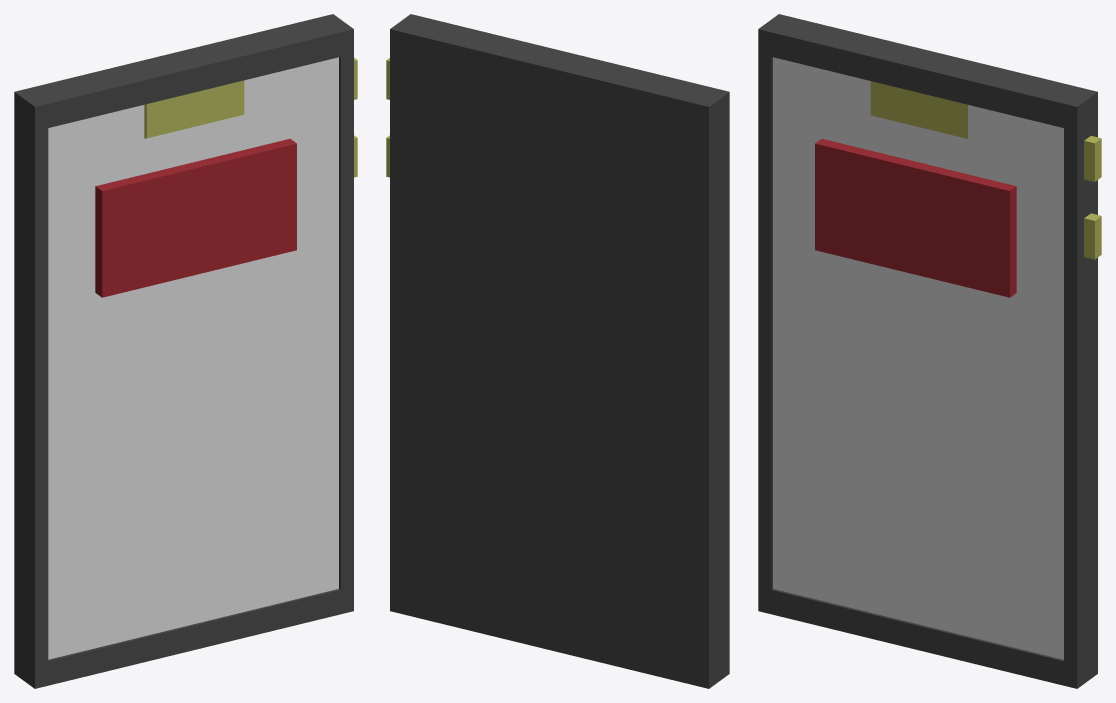
File: PhoneProjectile.fbx
The picture shows the model from 3 angles, left to right: view 1: azimuth 30°, elevation 25°; view 2: azimuth 150°, elevation 25°; view 3: azimuth 330°, elevation 25°; orthographic projection.
Parts seen in each view (by area): view 1: Cube; view 2: Cube; view 3: Cube.
Part boxes in pixels (x1,y1,x2,y2): Cube: [14, 14, 357, 688]; Cube: [386, 14, 729, 688]; Cube: [758, 14, 1101, 688].
Size of the model in its own units: 117 by 197 by 15.9.
